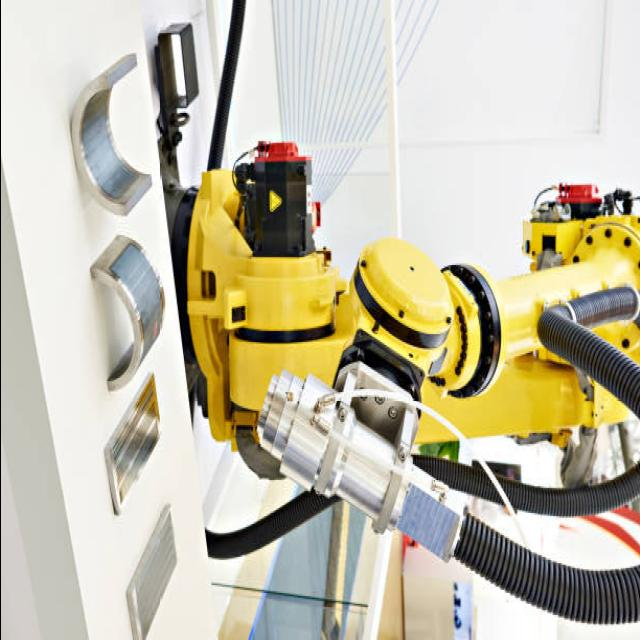Robotic-arm: (181, 128, 640, 528)
